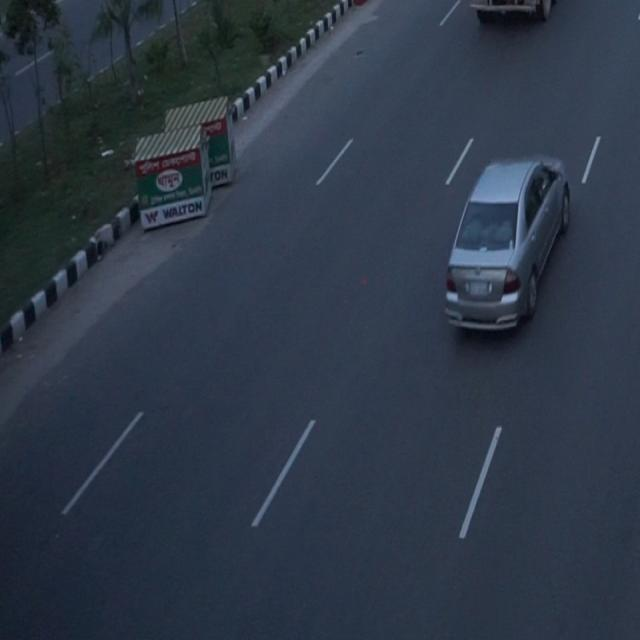car: (434, 142, 578, 345)
van: (463, 0, 588, 44)
